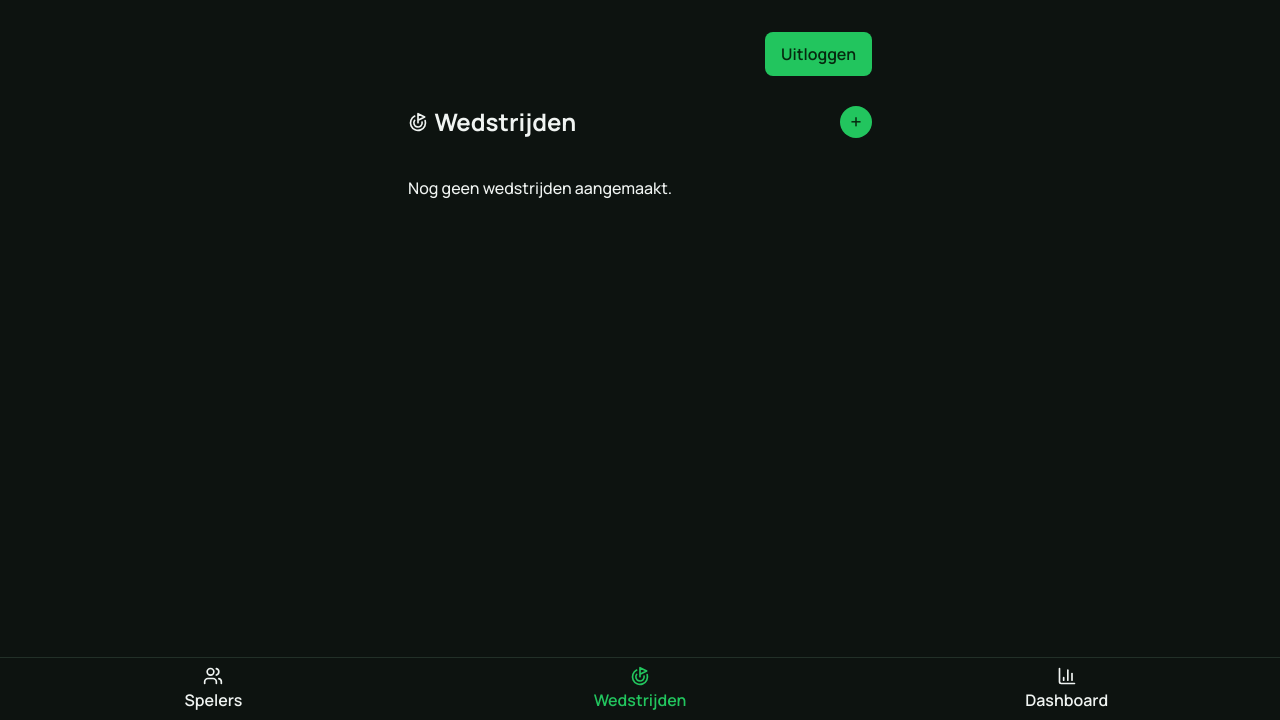
Test case: HomeScreen › shows the Dashboard screen as its own /dashboard route, reachable via the tab bar
The width and height of the screenshot is (1280, 720).
Expected: the heading "Wedstrijden" is shown, [408, 104, 576, 140]
Click the link "Dashboard". click: (1067, 688)
box: [1025, 666, 1108, 711]
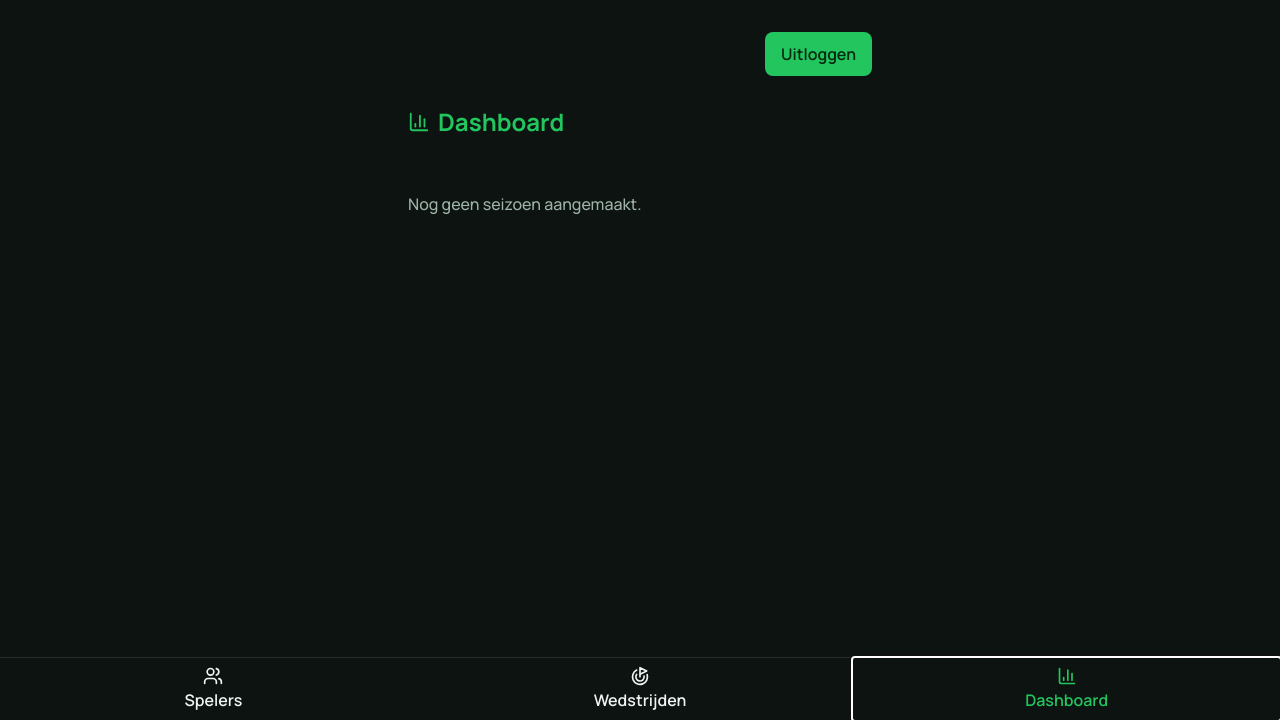
Now the heading "Dashboard" is shown, box [438, 104, 564, 140]
